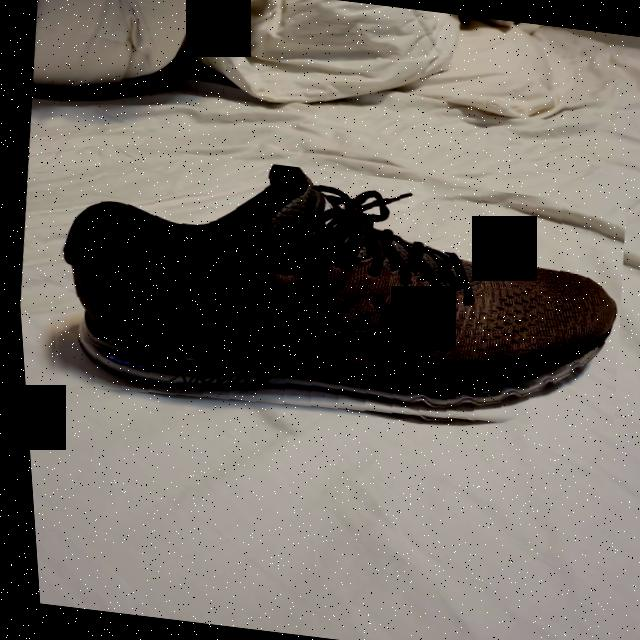shoe: (29, 138, 636, 452)
